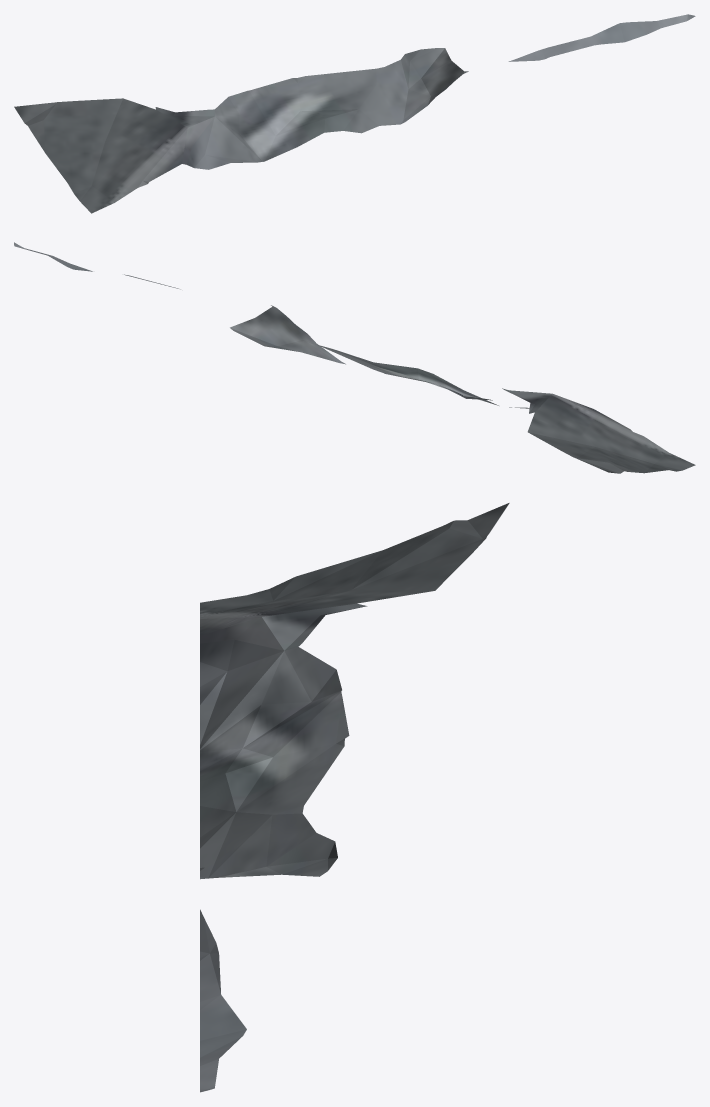
3 renders of one model, top to bottom at view 1: azimuth 30°, elevation 25°; view 2: azimuth 150°, elevation 25°; view 3: azimuth 270°, elevation 25°, orthographic. The views are drawn at different scales.
Size of the model in its own units: 0.7112 by 0.0563 by 0.1579.
Materials: 1 (1 with a texture image).
